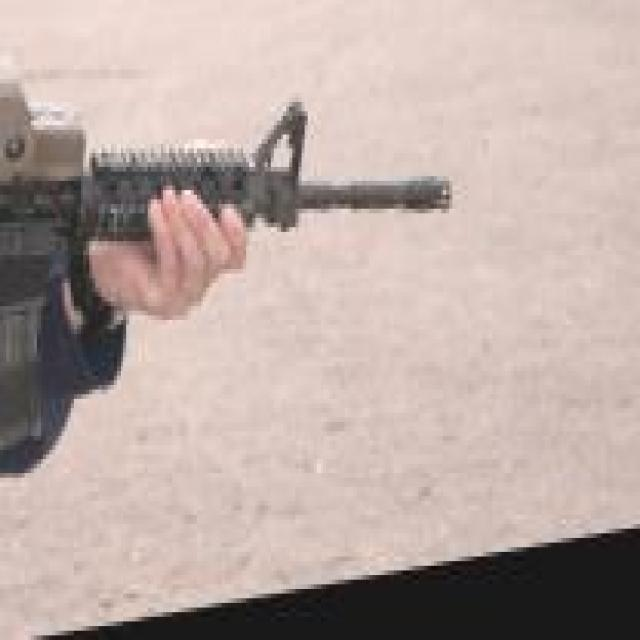Guns: (0, 56, 480, 482)
